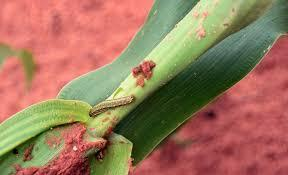fallarmy_worm: (86, 94, 140, 119)
